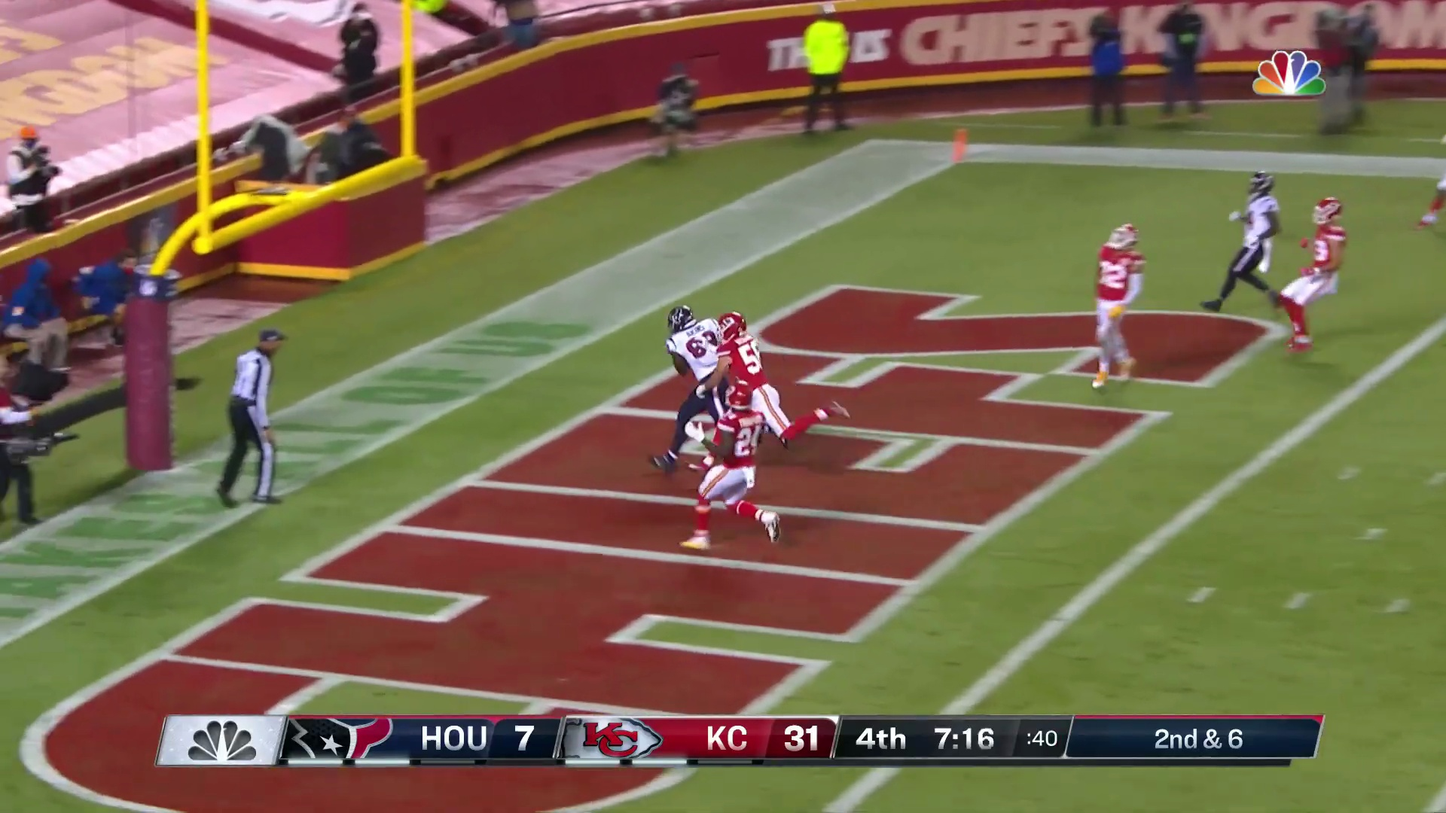Player: (682, 390, 762, 548), (711, 312, 785, 460), (665, 306, 721, 462), (1095, 224, 1144, 386)
